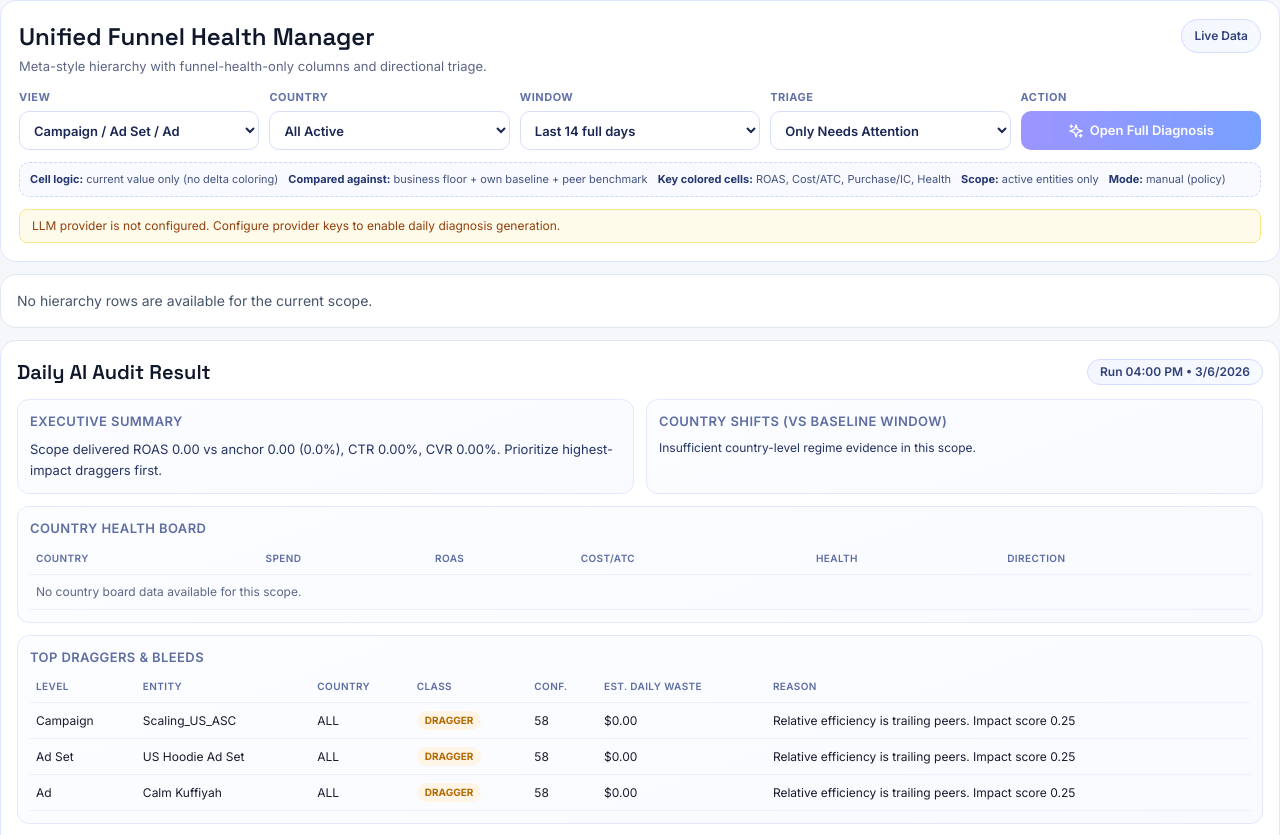
CampaignIntelligenceUnifiedSection › renders unified manager rows and mixed metric states without crashing
The width and height of the screenshot is (1280, 835).
expect the heading "Unified Funnel Health Manager" is shown: met, box [19, 21, 375, 52]
Select "Show All" in the 4th dropdown showing "Only Needs Attention" at (890, 130), box [770, 111, 1011, 150]
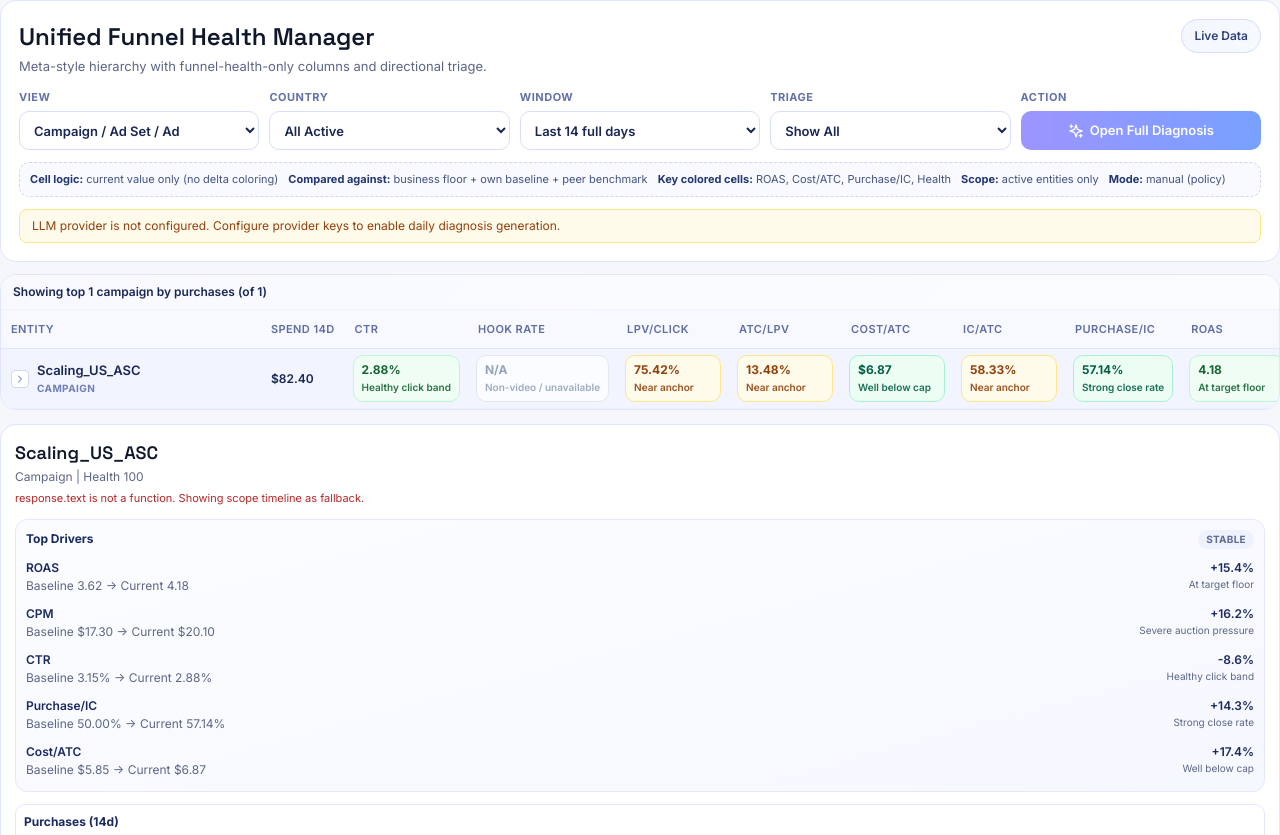
expect the text "At target floor" in the row of "$82.40" is shown: met, box [1198, 381, 1265, 393]
expect the text "Strong close rate" in the row of "$82.40" is shown: met, box [1082, 381, 1164, 393]
expect the text "Near anchor" below "75.42%" is shown: met, box [634, 381, 694, 393]
